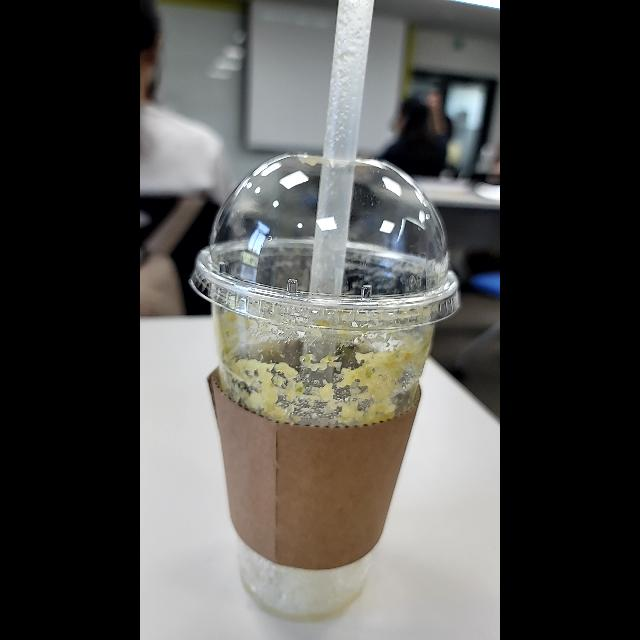plastic_cup: (188, 148, 462, 622)
plastic_cup_lid: (186, 148, 462, 334)
straw: (295, 0, 373, 362)
